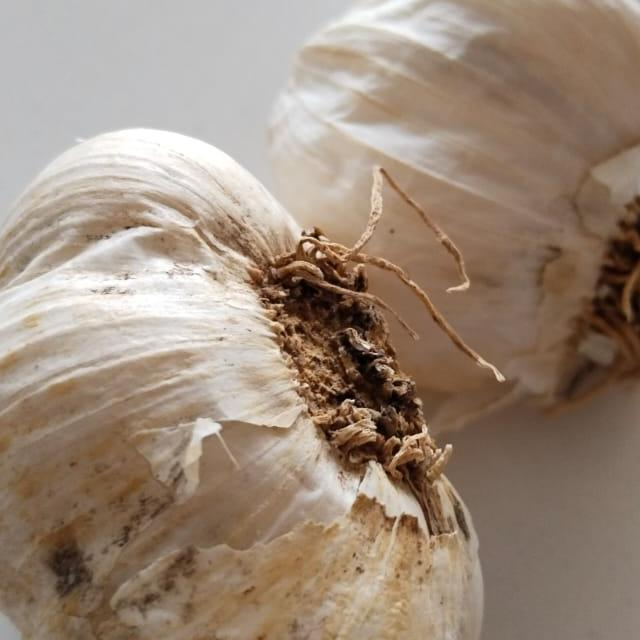garlic: (0, 93, 561, 640), (314, 0, 640, 428)
